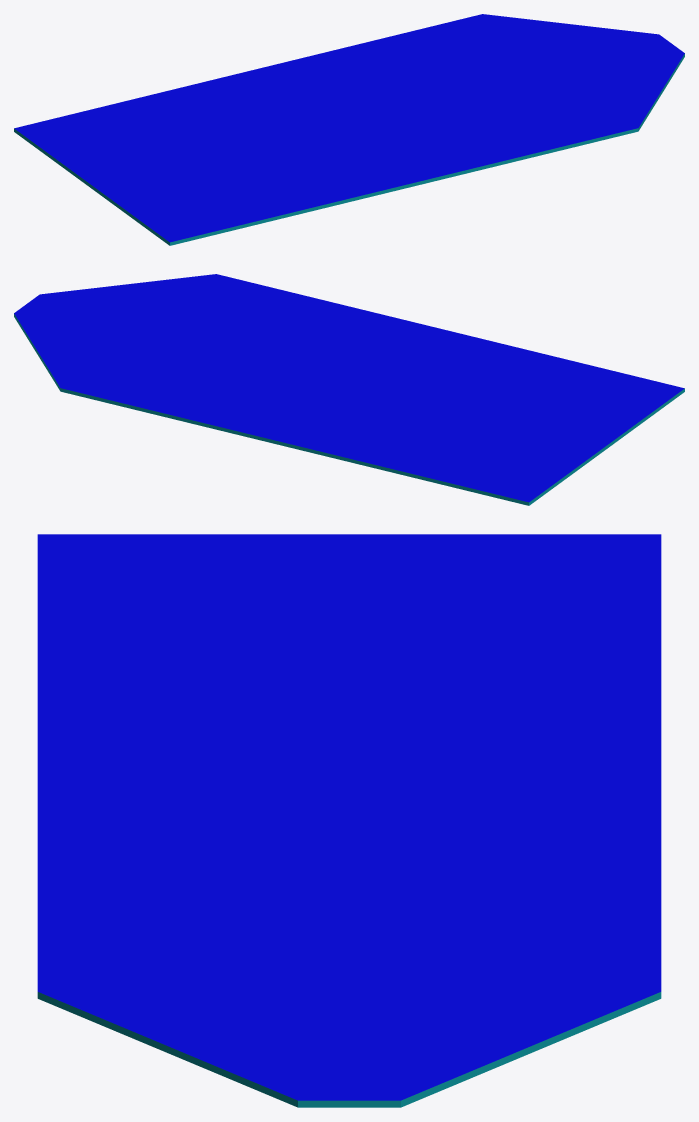
The model's file is MRO_sa.dae.
3 renders of one model, top to bottom at view 1: azimuth 30°, elevation 25°; view 2: azimuth 150°, elevation 25°; view 3: azimuth 270°, elevation 25°, orthographic. The views are drawn at different scales.
Parts seen in each view (by area): view 1: MRO_sa; view 2: MRO_sa; view 3: MRO_sa.
Part boxes in pixels (bbox=[...]): MRO_sa: bbox=[14, 14, 684, 245]; MRO_sa: bbox=[14, 274, 684, 505]; MRO_sa: bbox=[37, 534, 661, 1107].
Size of the model in its own units: 5.2 by 2.42 by 0.03.
